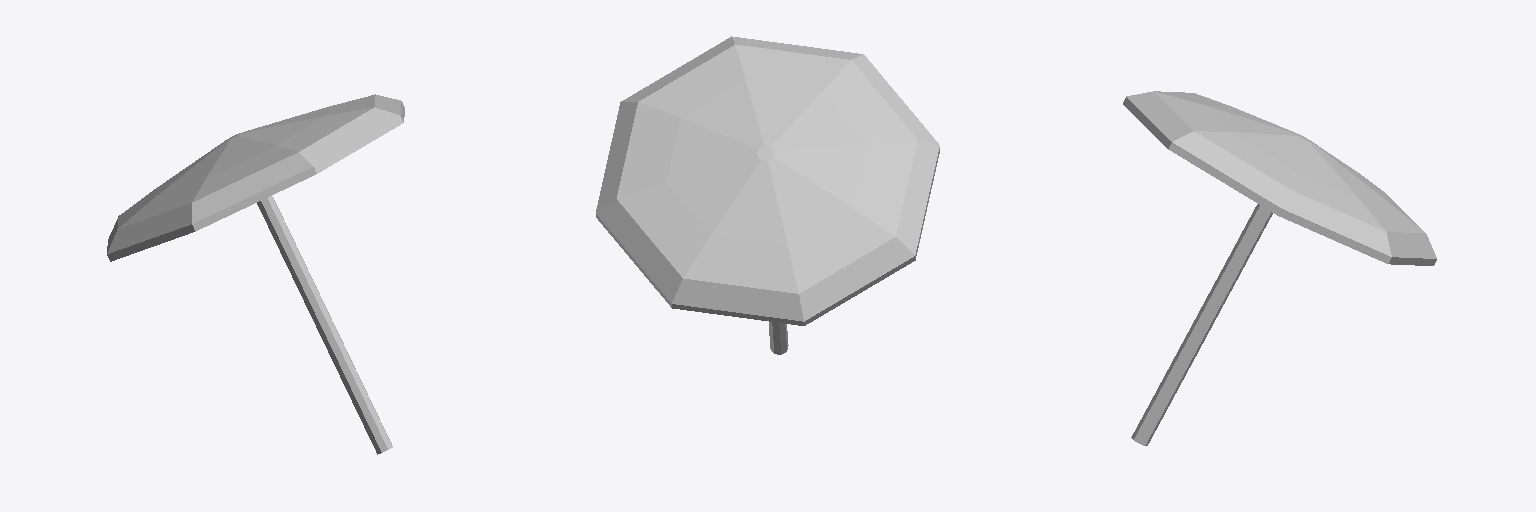
Rendered from umbrellaTopper.obj.
3 views of the same model, side by side, from view 1: azimuth 30°, elevation 25°; view 2: azimuth 150°, elevation 25°; view 3: azimuth 270°, elevation 25° (orthographic).
Visible parts, largest first — view 1: umbrella fancyCup1; view 2: umbrella fancyCup1; view 3: umbrella fancyCup1.
Boxes of the visible parts, x1,y1,x2,y2 form: umbrella fancyCup1: [107, 94, 404, 454]; umbrella fancyCup1: [596, 36, 939, 354]; umbrella fancyCup1: [1123, 91, 1436, 445].
Bounding box in the file's own units: 1.98 × 2.07 × 1.83.